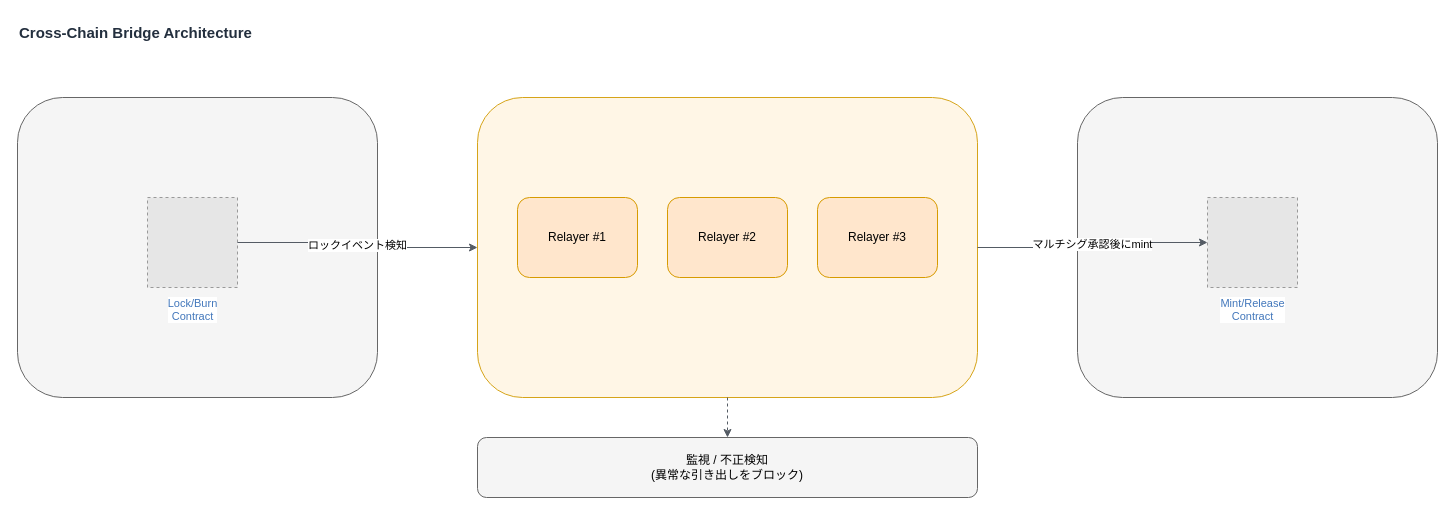
Image size: 1455x515. Some labels were removed from this diagram. Grey dashed boxes stand in for pictures. Each missing label, with the box of its shape:
Chain A: (16, 96, 378, 398)
Chain B: (1076, 96, 1438, 398)
Relayer / Oracle Network (署名の集約・検証): (476, 96, 978, 398)
